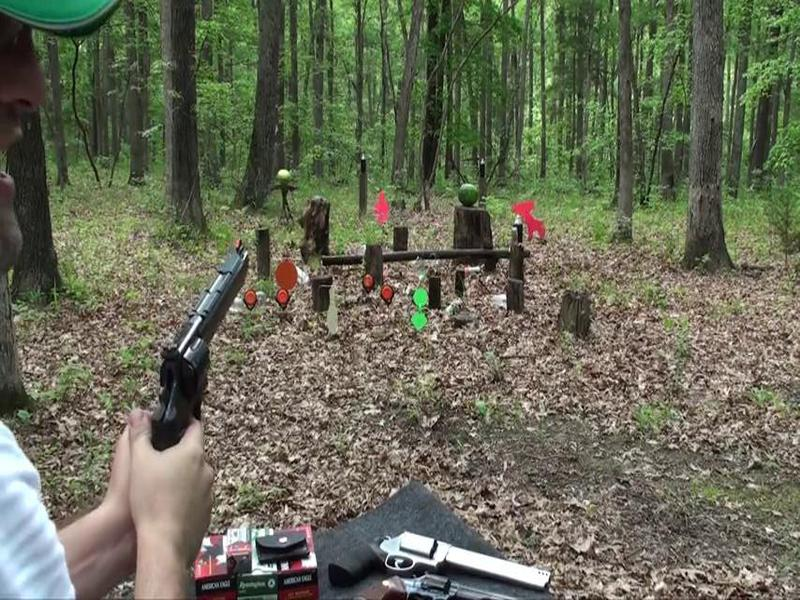Revolver: (138, 231, 257, 474)
